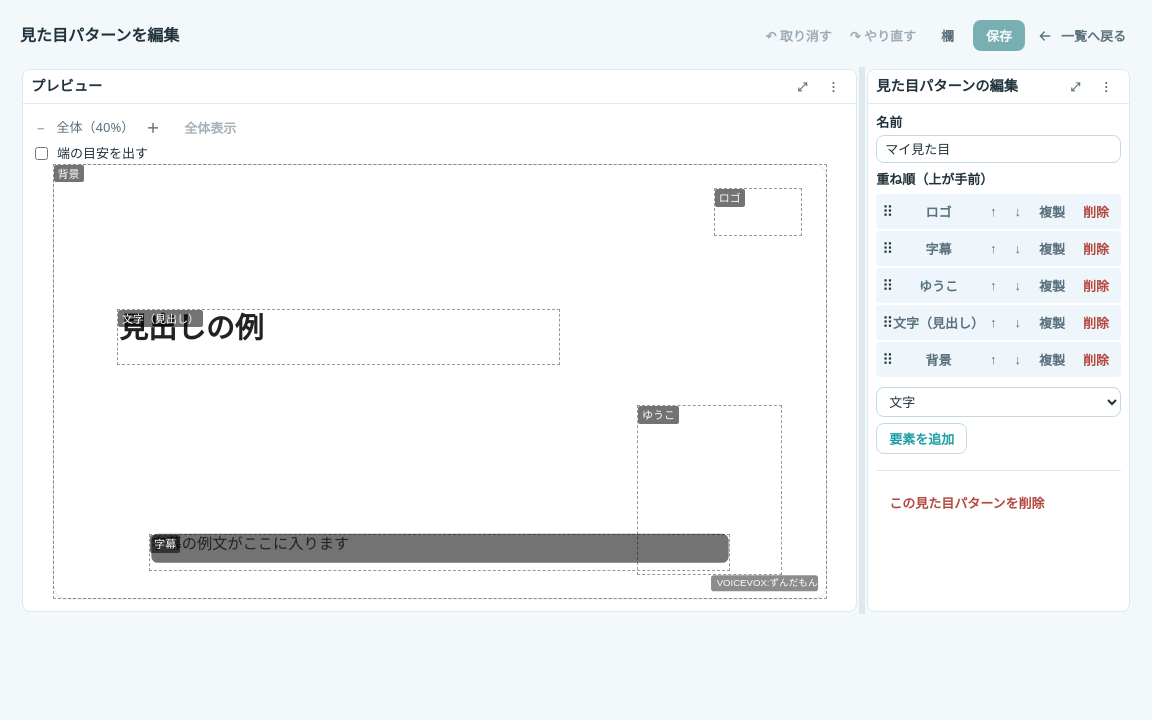
Test case: LooksEditScreen 重ね順・収め方の表記（#547 P2-11/P2-10） › 選択レイヤーの数値欄は「重ね順」（「重なり順」にしない・06_UI_SPEC §3）
Click the button "背景".
click(938, 359)  # box [899,344,978,375]
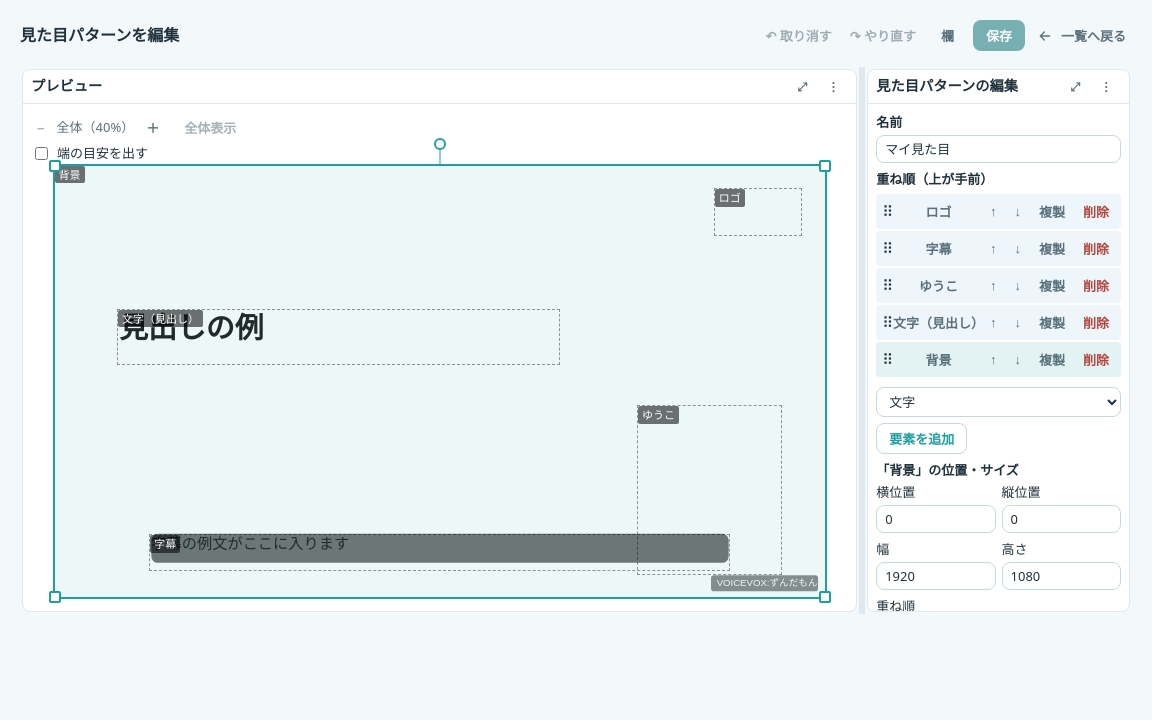
Check: the text "重ね順" is shown, box [876,597,915,611]
